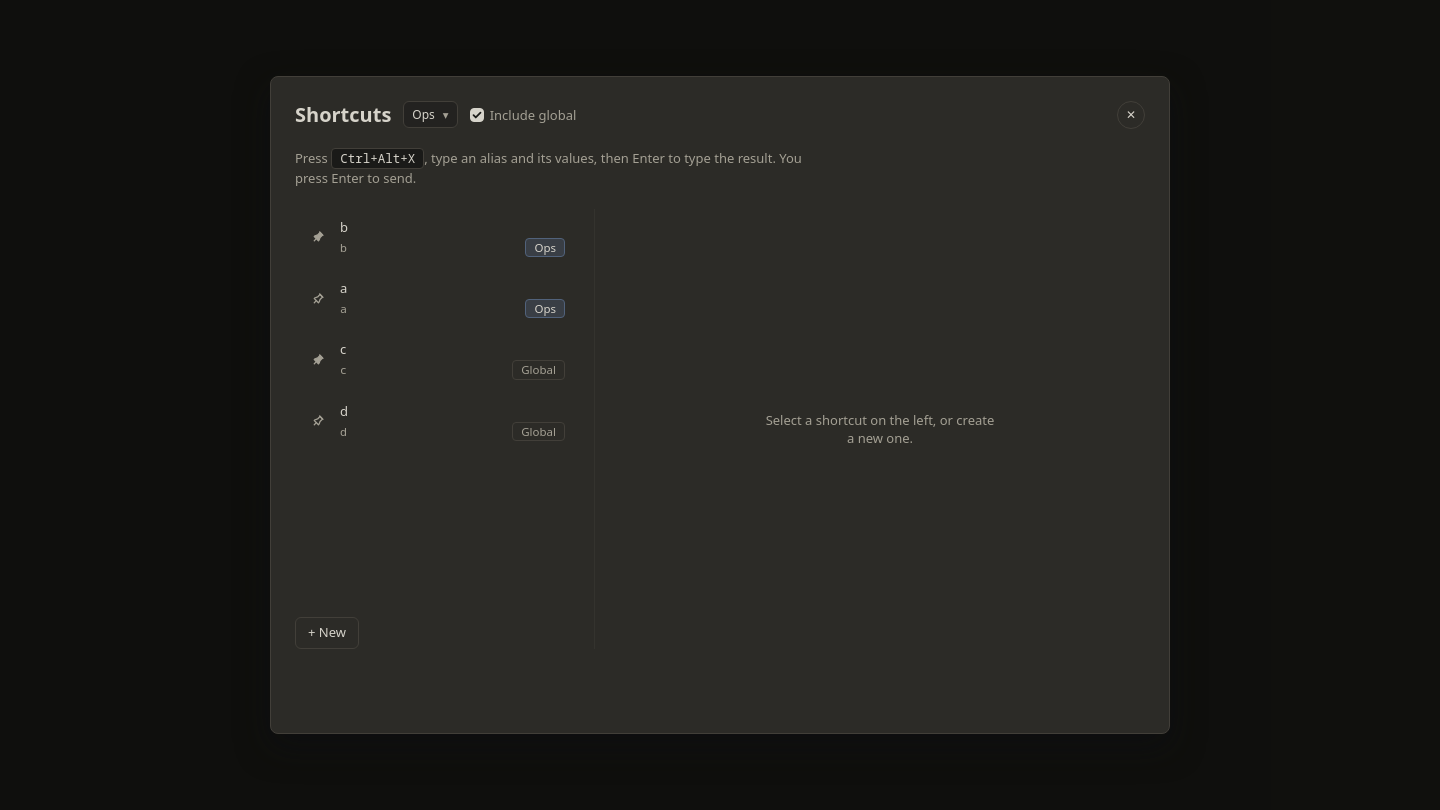
Scenario: ShortcutsDialog — favorites › a refused pin shows the store copy in the message slot and keeps the pin
Click the button with test id "shortcut-favorite-a" at [318, 299], box [308,289,328,309]
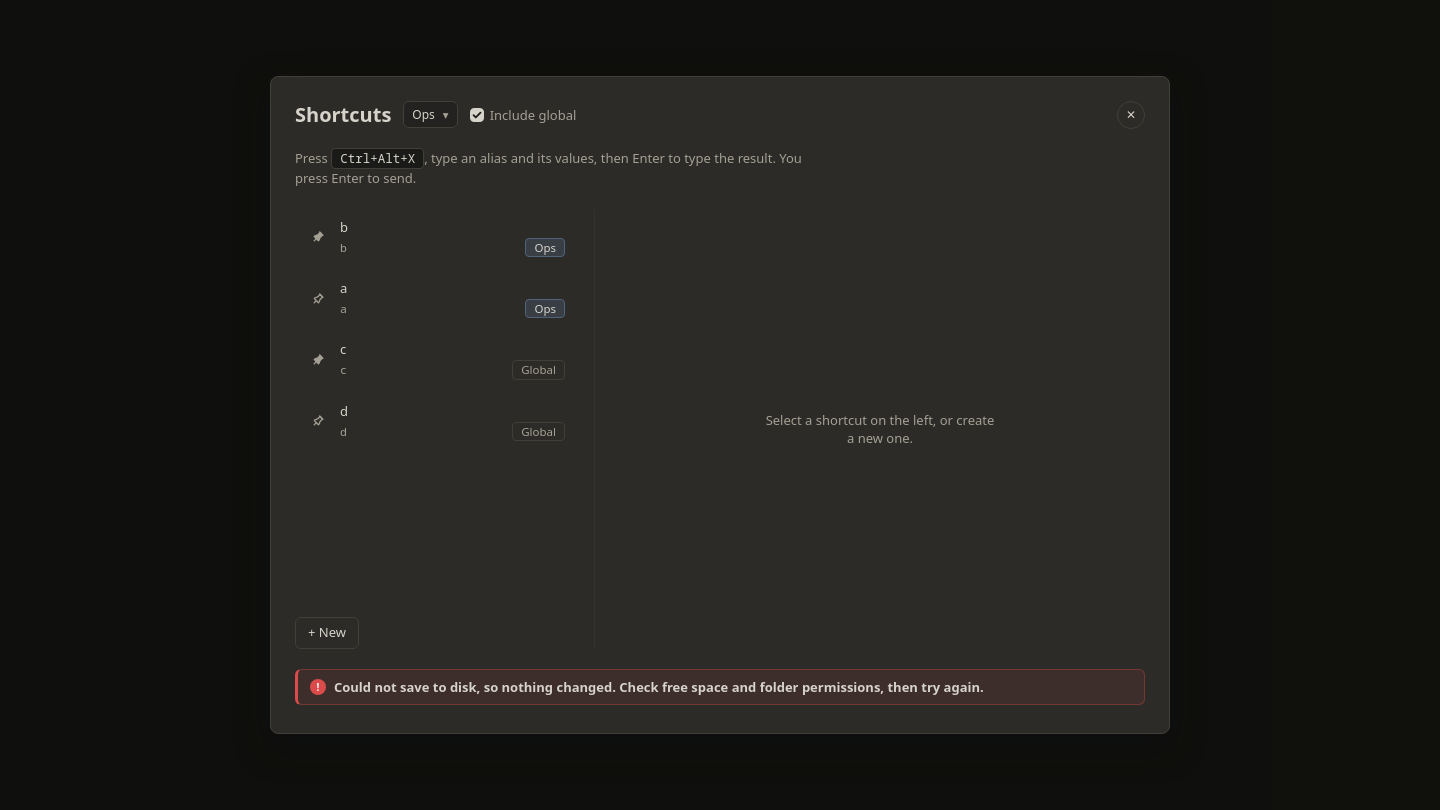
Expected: the message with test id "shortcuts-error" shows "Could not save to disk, so nothing changed. Check free space and folder permissions, then try again.", [334,678,984,696]
